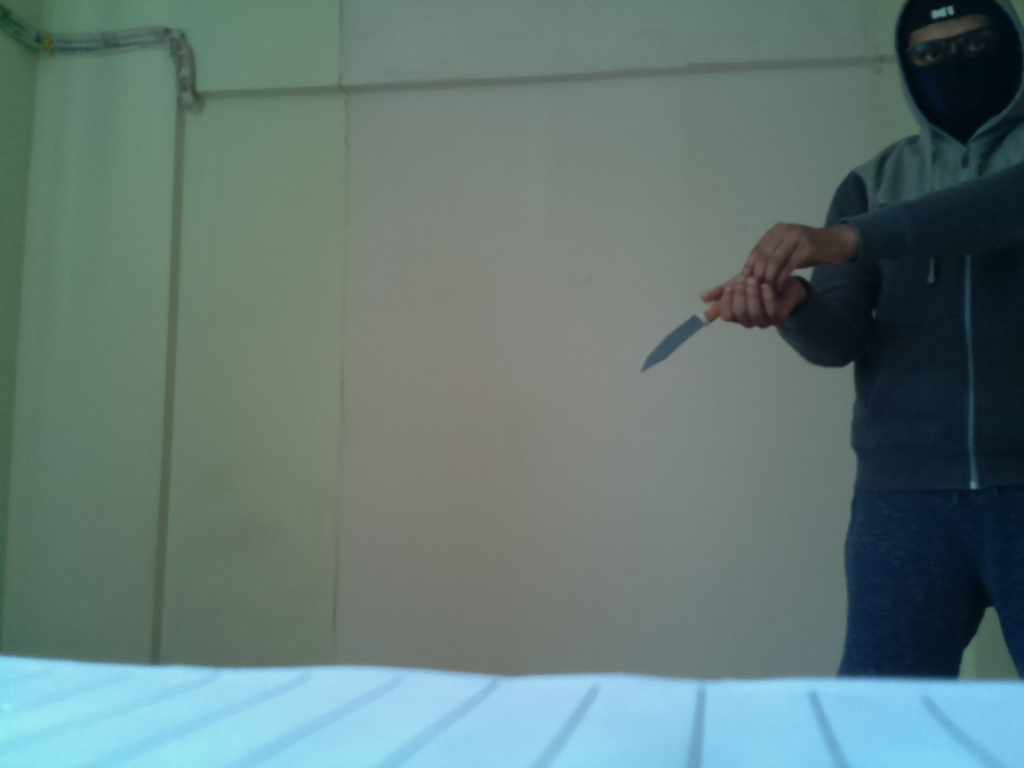knife: (635, 287, 744, 382)
